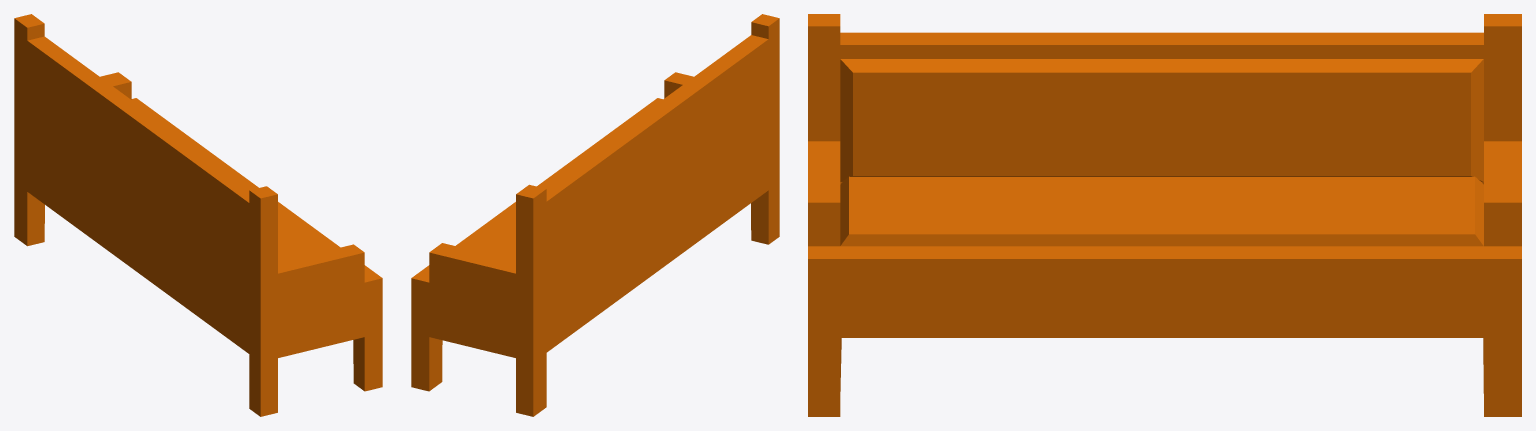
File: doremisofa.fbx
3 renders of one model, left to right at view 1: azimuth 30°, elevation 25°; view 2: azimuth 150°, elevation 25°; view 3: azimuth 270°, elevation 25°, orthographic. The views are drawn at different scales.
Visible parts, largest first — view 1: Cube; view 2: Cube; view 3: Cube.
Part boxes in pixels (bbox=[...]): Cube: bbox=[14, 14, 382, 416]; Cube: bbox=[411, 14, 779, 416]; Cube: bbox=[808, 14, 1521, 416].
Bounding box in the file's own units: 200 × 342 × 699.
